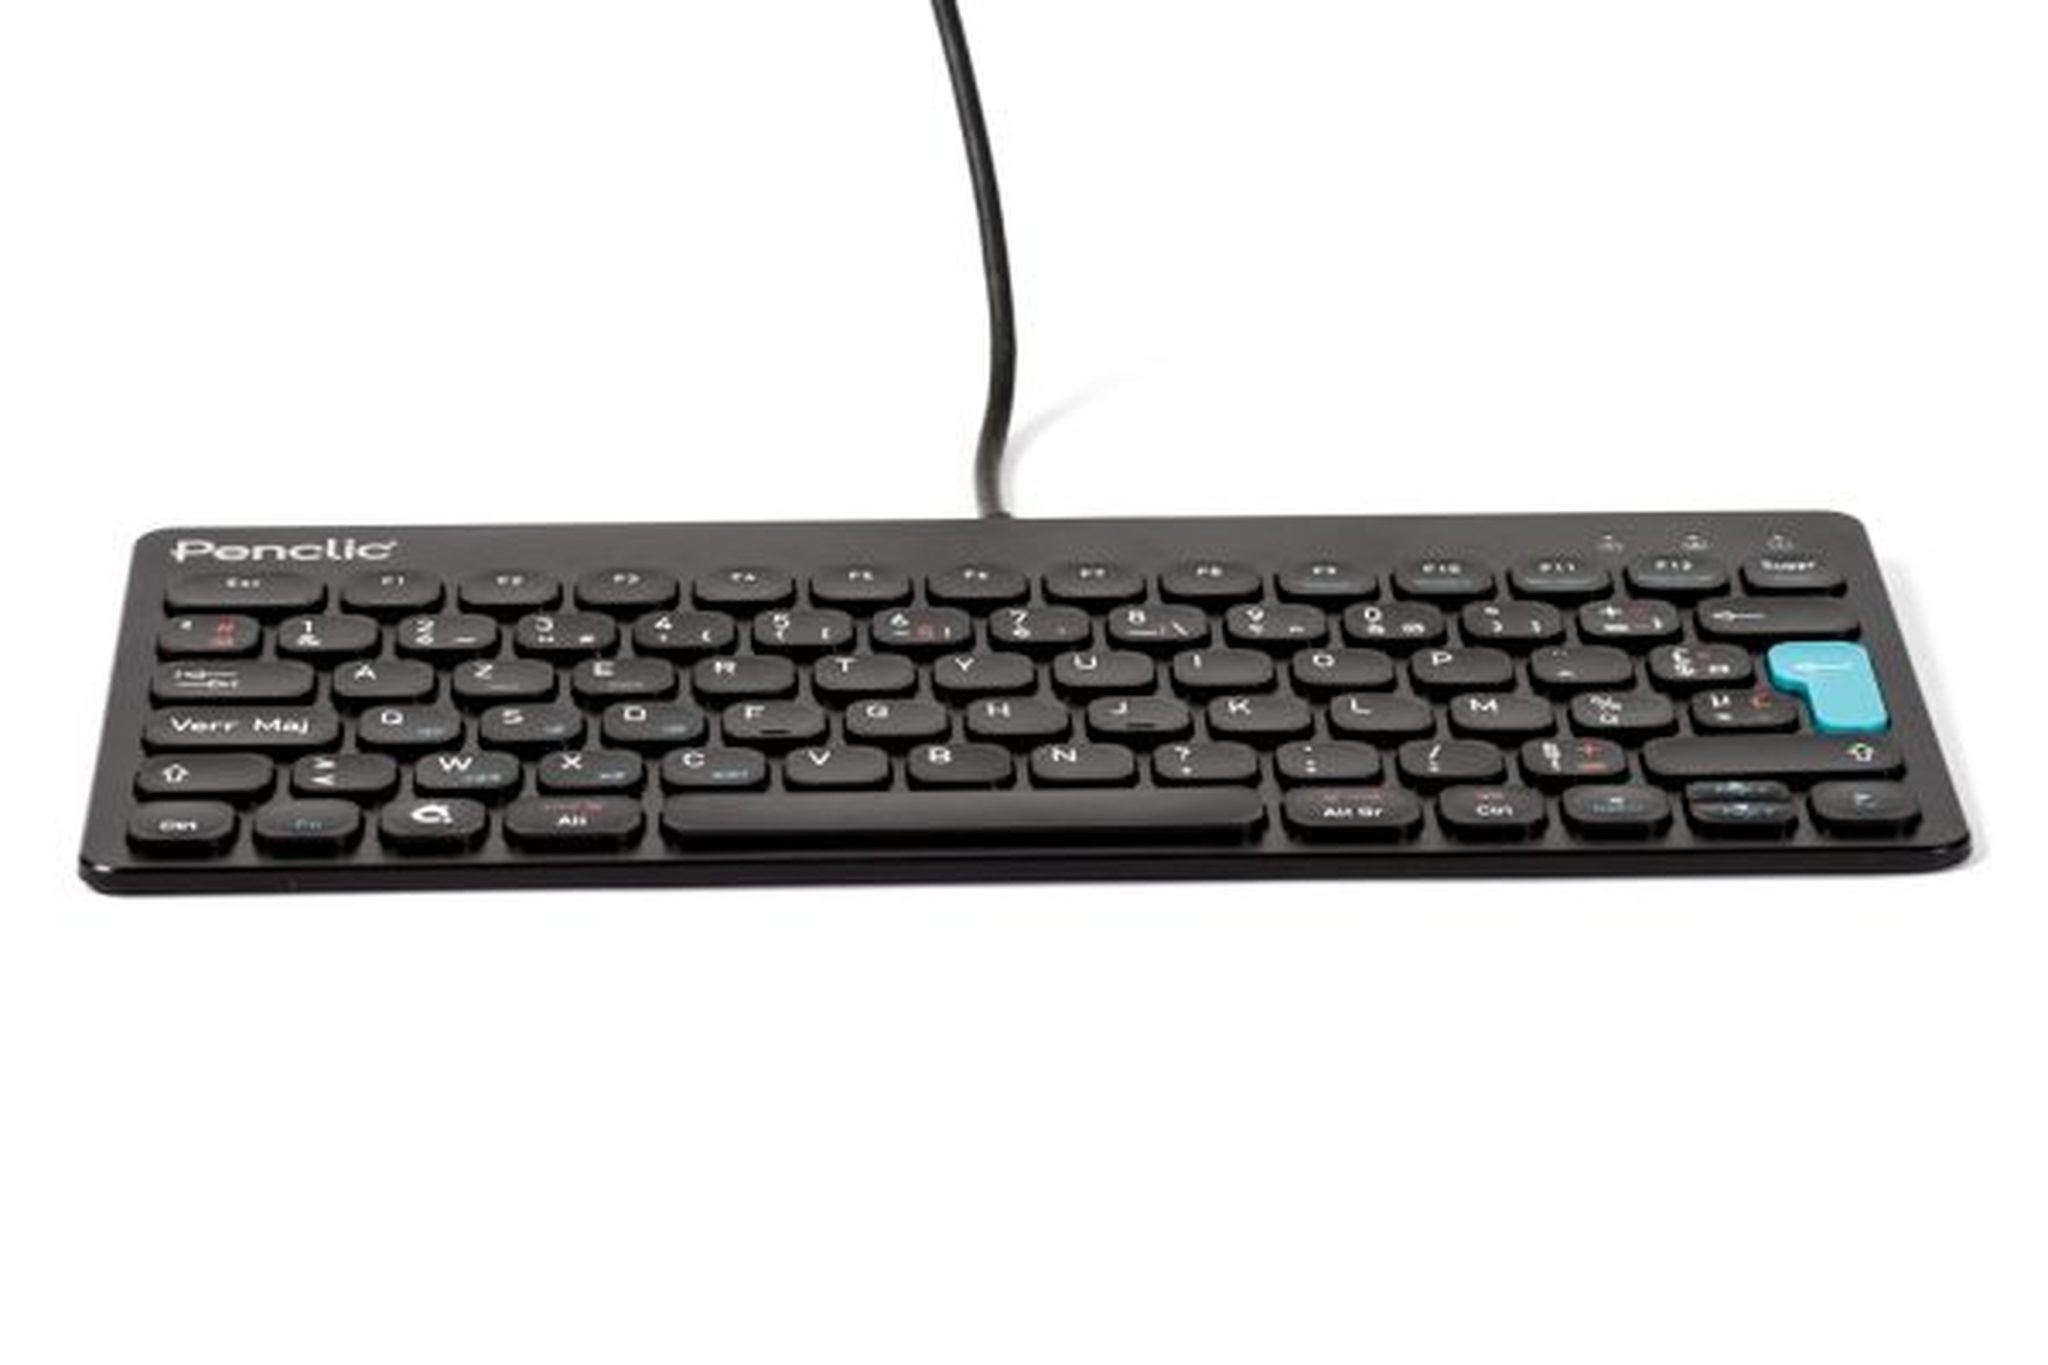keyboard: (91, 510, 1986, 888)
